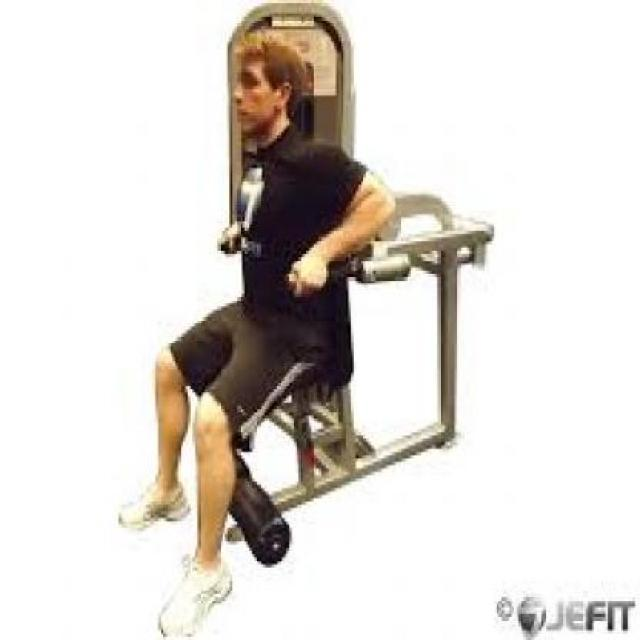seated dip machine: (94, 0, 503, 640)
